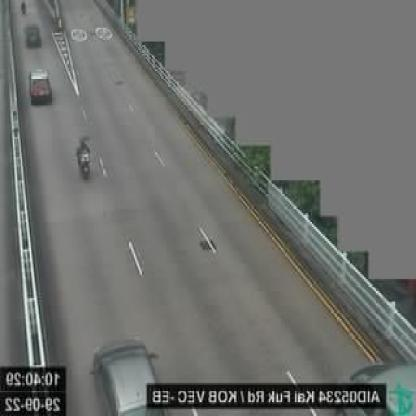Car: (90, 338, 178, 414), (337, 339, 416, 414), (26, 64, 57, 108), (25, 19, 44, 49)
